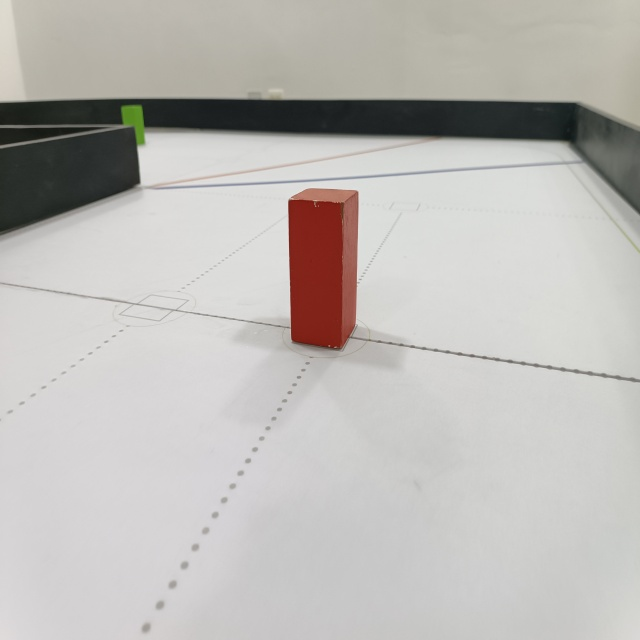blue line: (149, 159, 588, 192)
green rectangular prism: (121, 107, 147, 146)
orange line: (151, 137, 439, 190)
red rectangular prism: (284, 185, 360, 357)
